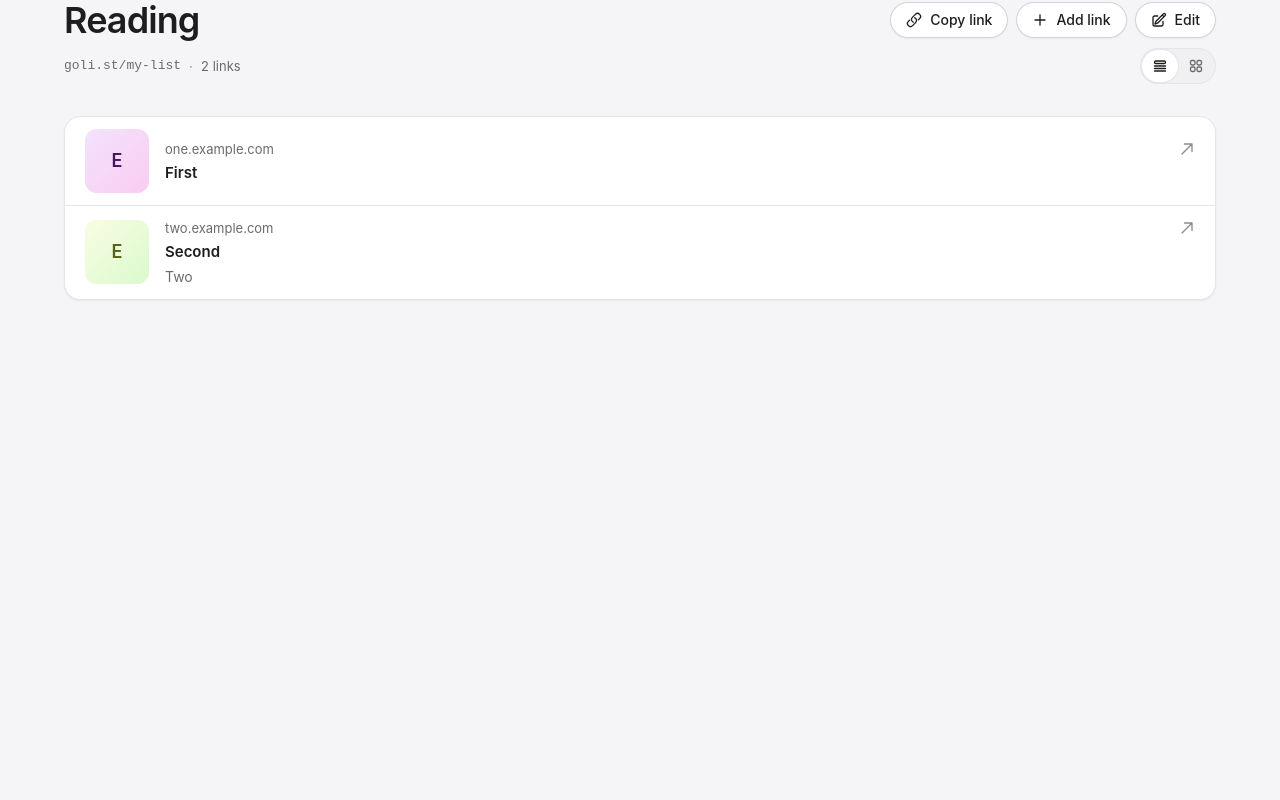
edit mode as a draft › removes a link from its edit dialog
The width and height of the screenshot is (1280, 800).
What coordinates should you click on to do the following:
click the button "Edit"
I would click on:
 (1175, 20)
Its box is [1135,2,1216,38].
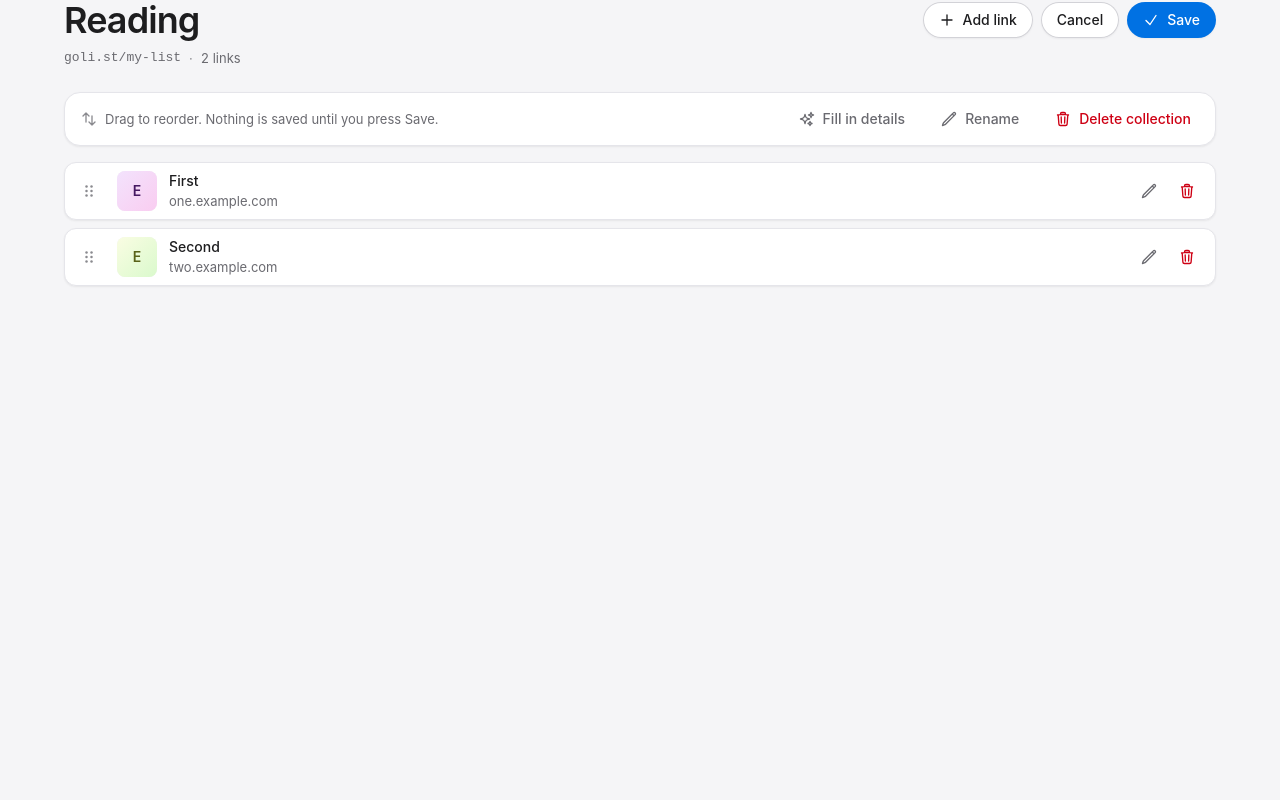
What coordinates should you click on to do the following:
click the button named "Edit link" in the row of "one.example.com"
I would click on:
 (1149, 191)
Its box is [1131,173,1167,209].
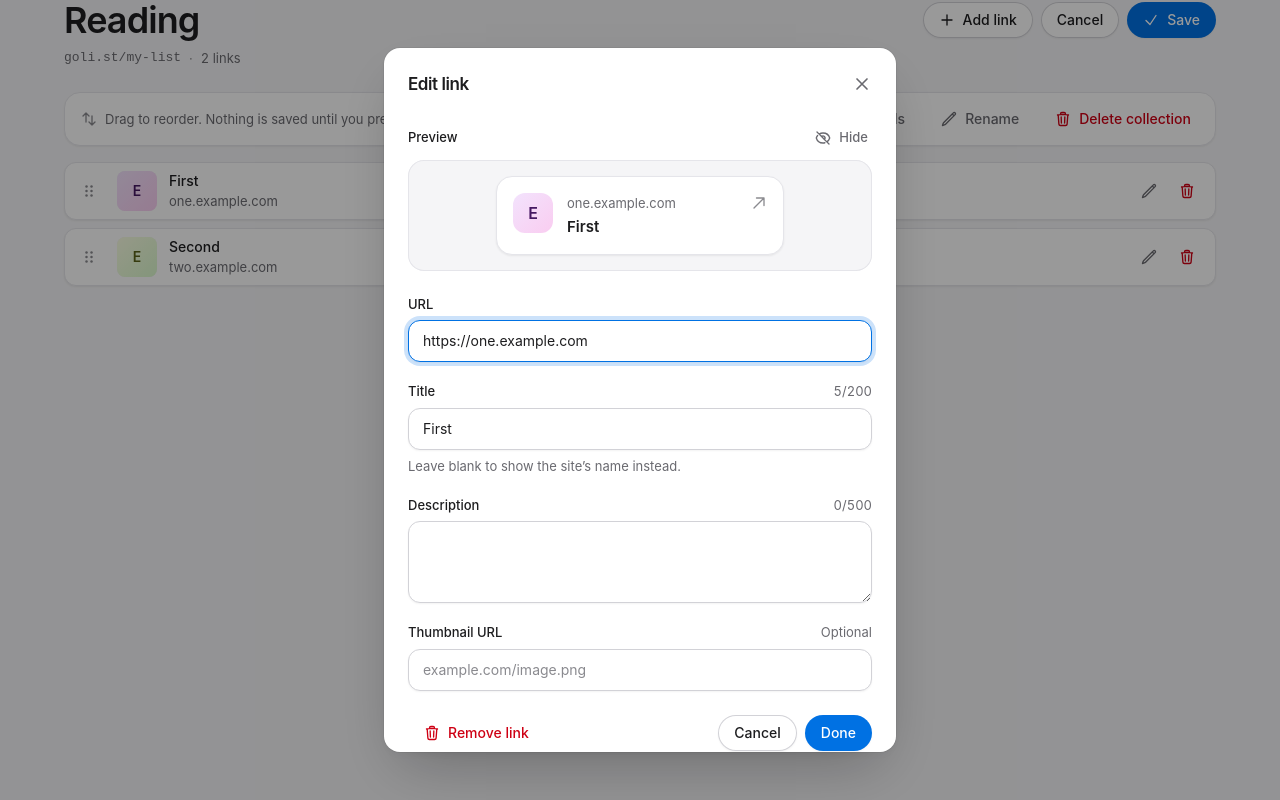
What coordinates should you click on to do the following:
click the button "Remove link"
I would click on:
 (476, 733)
Its box is [408,715,545,751].
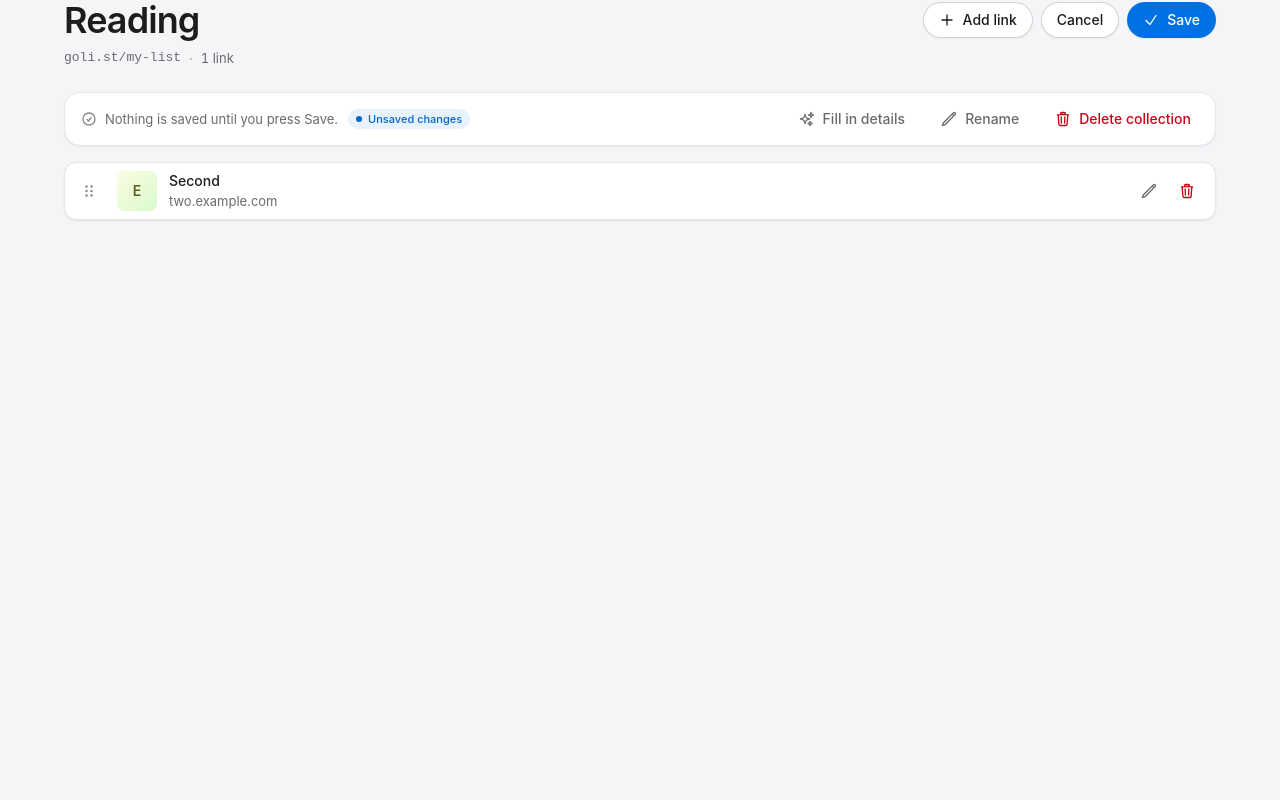
Expected: the number of buttons named "Edit link" is 1, [1131,173,1167,209]
Expected: the text "Unsaved changes" is shown, [348,109,470,129]
